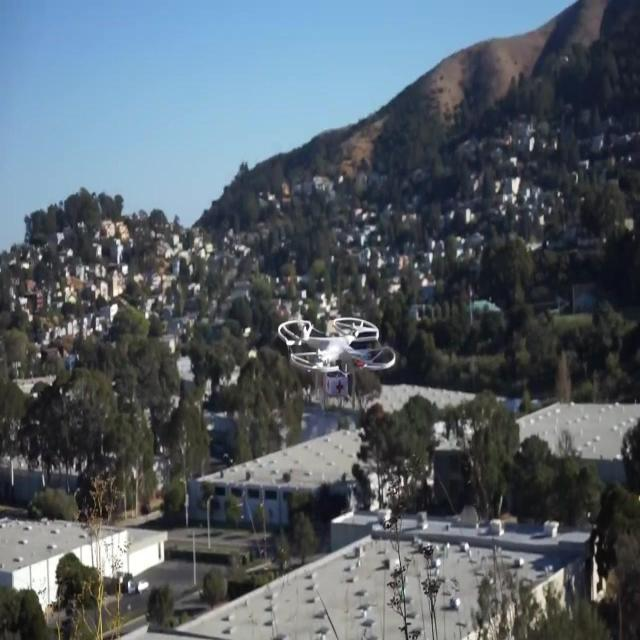drone: (277, 315, 396, 412)
